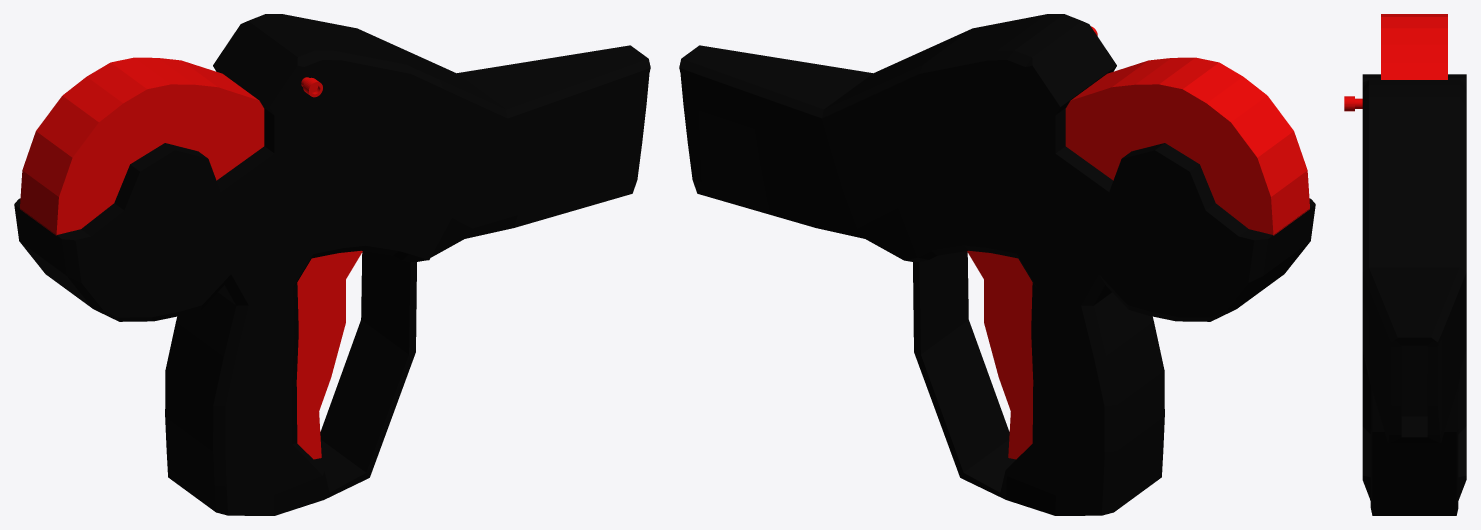
The model's file is pistolPaper.fbx.
The picture shows the model from 3 angles, left to right: view 1: azimuth 30°, elevation 25°; view 2: azimuth 150°, elevation 25°; view 3: azimuth 270°, elevation 25°; orthographic projection. The views are drawn at different scales.
Visible parts, largest first — view 1: frame; view 2: frame; view 3: frame.
Boxes of the visible parts, bbox=[...] form: frame: bbox=[14, 14, 650, 515]; frame: bbox=[679, 14, 1315, 515]; frame: bbox=[1344, 14, 1466, 515].
Bounding box in the file's own units: 54.38 × 39.18 × 10.44.
